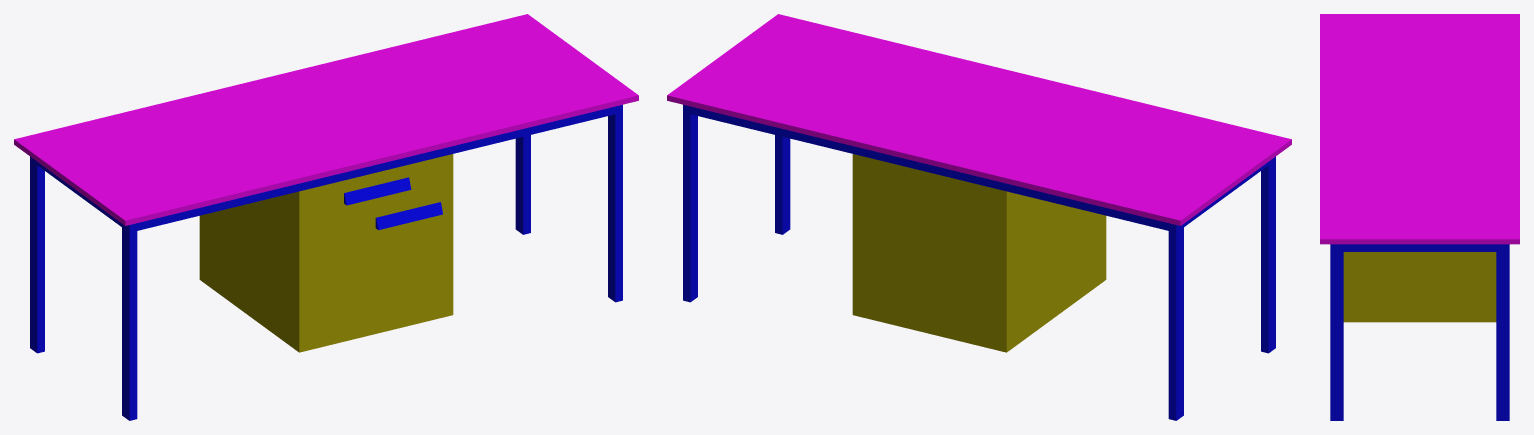
File: MesaAtrezo_LowPoly_v1.fbx
3 views of the same model, side by side, from view 1: azimuth 30°, elevation 25°; view 2: azimuth 150°, elevation 25°; view 3: azimuth 270°, elevation 25° (orthographic). The views are drawn at different scales.
Parts seen in each view (by area): view 1: pCube1, pCube5, polySurface13, polySurface11, polySurface9, polySurface12, polySurface10, pCube10, pCube8; view 2: pCube1, pCube5, polySurface14, polySurface12, polySurface10, polySurface11, polySurface9; view 3: pCube1, pCube5, polySurface9, polySurface10, polySurface5.
Part boxes in pixels (bbox=[...]): pCube1: bbox=[14, 14, 638, 225]; pCube5: bbox=[199, 154, 453, 352]; polySurface13: bbox=[137, 106, 615, 230]; polySurface11: bbox=[122, 223, 137, 420]; polySurface9: bbox=[608, 104, 622, 302]; polySurface12: bbox=[30, 156, 44, 353]; polySurface10: bbox=[515, 135, 530, 234]; pCube10: bbox=[375, 202, 442, 230]; pCube8: bbox=[344, 177, 411, 205]; pCube1: bbox=[667, 14, 1291, 225]; pCube5: bbox=[852, 154, 1106, 352]; polySurface14: bbox=[690, 106, 1168, 230]; polySurface12: bbox=[1168, 223, 1183, 420]; polySurface10: bbox=[683, 104, 697, 302]; polySurface11: bbox=[1261, 156, 1275, 353]; polySurface9: bbox=[775, 135, 790, 234]; pCube1: bbox=[1320, 14, 1519, 244]; pCube5: bbox=[1343, 252, 1496, 322]; polySurface9: bbox=[1330, 244, 1343, 420]; polySurface10: bbox=[1496, 244, 1509, 420]; polySurface5: bbox=[1343, 244, 1496, 251].
Bounding box in the file's own units: 2 × 0.77 × 0.75.
